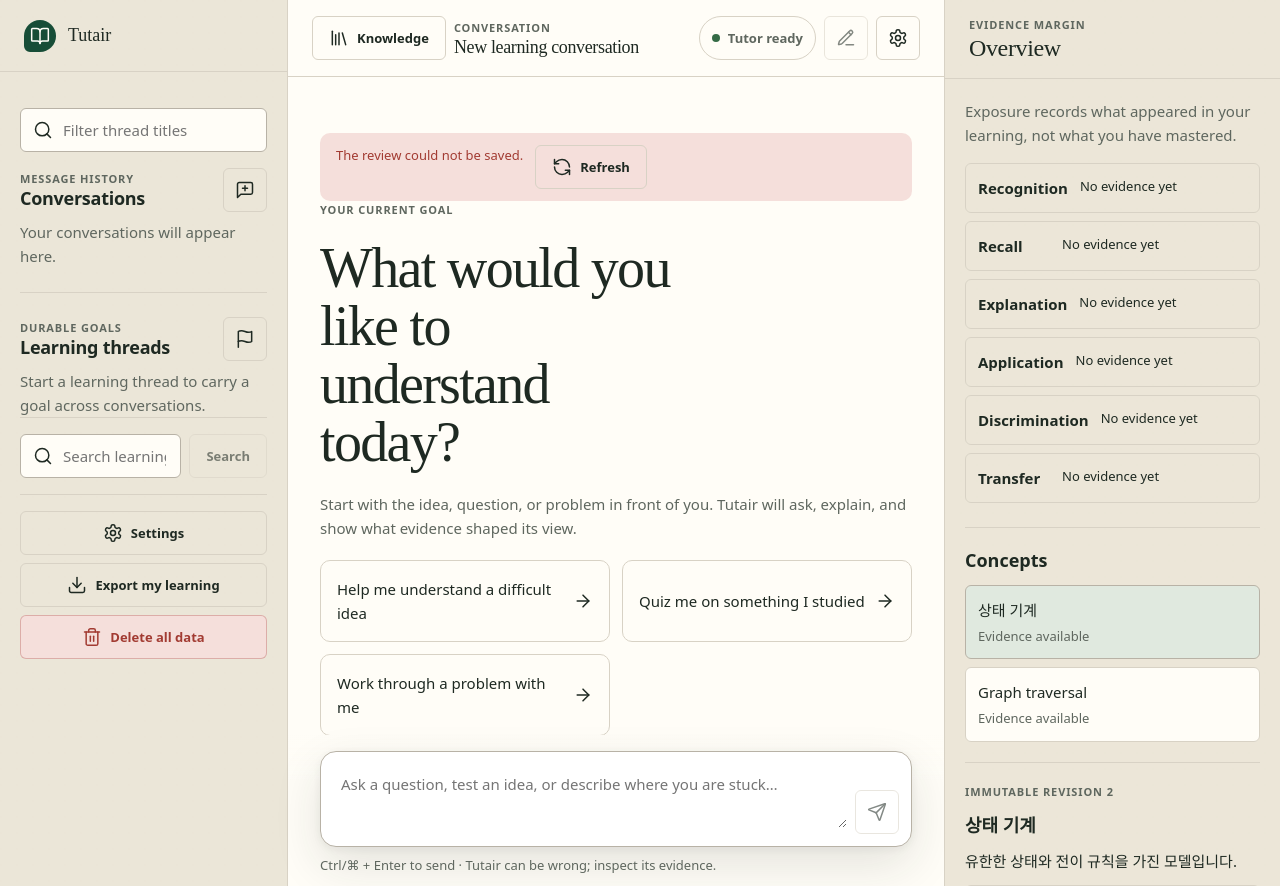
Test: knowledge manager › inspects immutable English and localized document versions
The image size is (1280, 886).
Click the button with aria-label "Manage knowledge" at {"x": 379, "y": 38}, box [312,16,446,60]
(page scrolled)
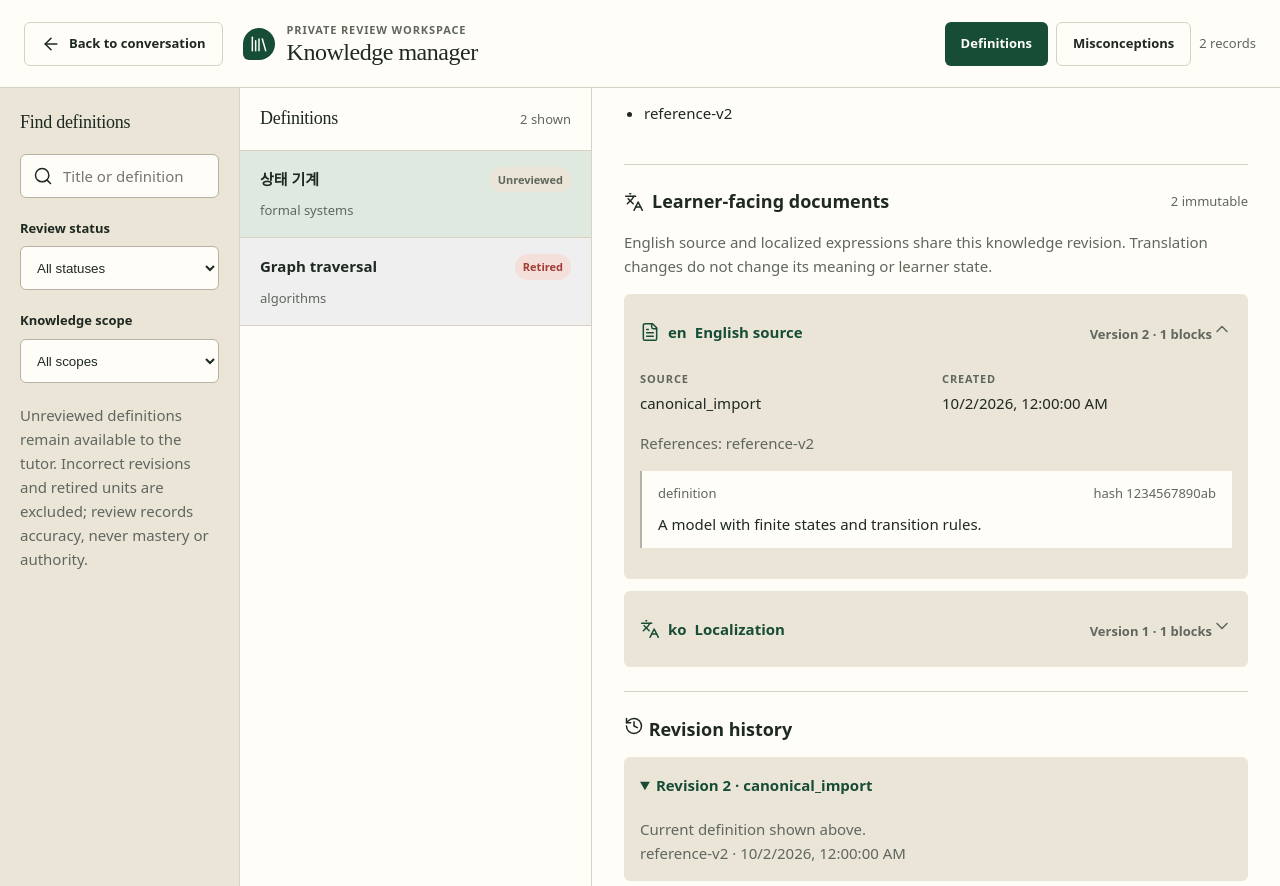
Expected: the heading "Learner-facing documents" is shown, [624,190,889,214]
Expected: the text "2 immutable" is shown, [1171,191,1248,212]
Expected: the text "English source" is shown, [695,320,802,344]
